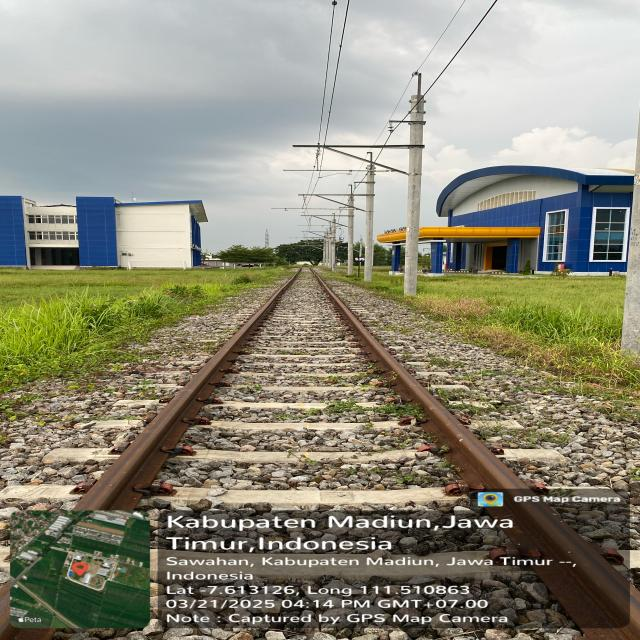rail-detection: (317, 277, 640, 640), (76, 279, 294, 510)
